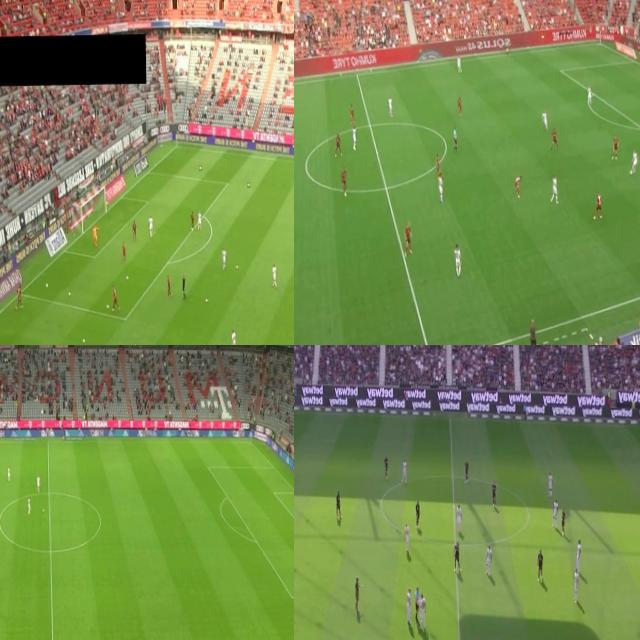ball: (629, 168, 633, 176), (41, 507, 46, 513), (246, 180, 250, 187), (205, 296, 208, 304), (126, 275, 130, 281), (67, 291, 70, 297), (45, 282, 48, 288), (82, 337, 86, 341), (198, 166, 202, 170), (106, 303, 108, 309), (133, 341, 136, 345), (236, 264, 238, 268)
player: (571, 534, 584, 572), (569, 570, 582, 606), (591, 190, 604, 224), (402, 218, 413, 258), (418, 589, 429, 629), (535, 546, 546, 586), (410, 500, 421, 536), (352, 575, 362, 613), (452, 540, 463, 572), (549, 497, 559, 531), (548, 172, 559, 202), (452, 502, 463, 532), (404, 588, 413, 624), (453, 239, 461, 279), (348, 124, 358, 154), (333, 488, 340, 528), (340, 165, 348, 199), (435, 172, 444, 202), (402, 522, 411, 550), (485, 541, 492, 577), (630, 147, 638, 176), (610, 132, 618, 160), (545, 470, 553, 498), (558, 505, 566, 533), (386, 94, 394, 120), (463, 459, 471, 485), (400, 457, 408, 482), (491, 480, 498, 508), (435, 153, 443, 177), (112, 287, 119, 313), (15, 284, 22, 310), (350, 102, 356, 130), (92, 223, 98, 250), (382, 451, 388, 478), (586, 85, 593, 108), (551, 125, 558, 146), (271, 262, 277, 286), (514, 173, 520, 197), (164, 274, 170, 296), (542, 110, 548, 132), (456, 93, 462, 115), (334, 131, 339, 157), (456, 54, 461, 76), (26, 496, 32, 514), (221, 247, 225, 269), (190, 209, 194, 231), (149, 216, 153, 238), (132, 220, 136, 242), (231, 330, 236, 345), (197, 212, 201, 230), (37, 474, 41, 492), (6, 464, 10, 480), (122, 242, 125, 260), (29, 495, 32, 501)
